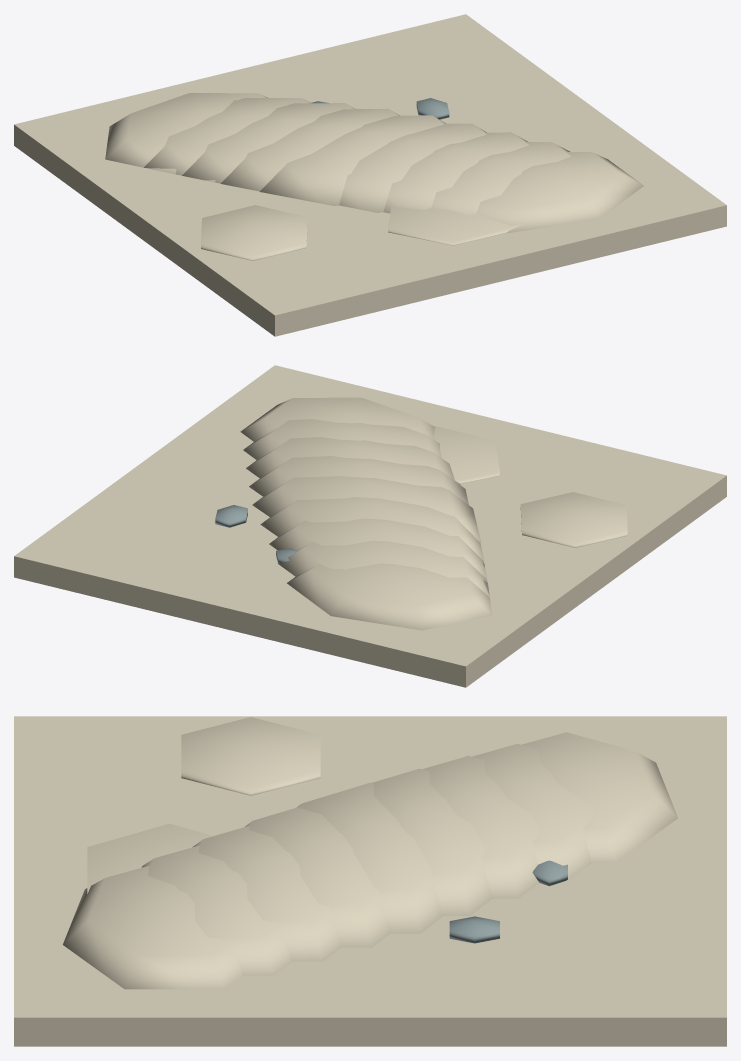
File: sunken-city-and-underwater-ruins-sand-drift-module-69506ac0__36949.glb
3 views of the same model, one above another, from view 1: azimuth 30°, elevation 25°; view 2: azimuth 150°, elevation 25°; view 3: azimuth 270°, elevation 25° (orthographic). The views are drawn at different scales.
Visible parts, largest first — view 1: sand-drift-module; view 2: sand-drift-module; view 3: sand-drift-module.
Boxes of the visible parts, <box> form: sand-drift-module: <box>14,14,726,336</box>; sand-drift-module: <box>14,365,726,687</box>; sand-drift-module: <box>14,716,726,1046</box>.
Bounding box in the file's own units: 4 × 0.6402 × 4.
